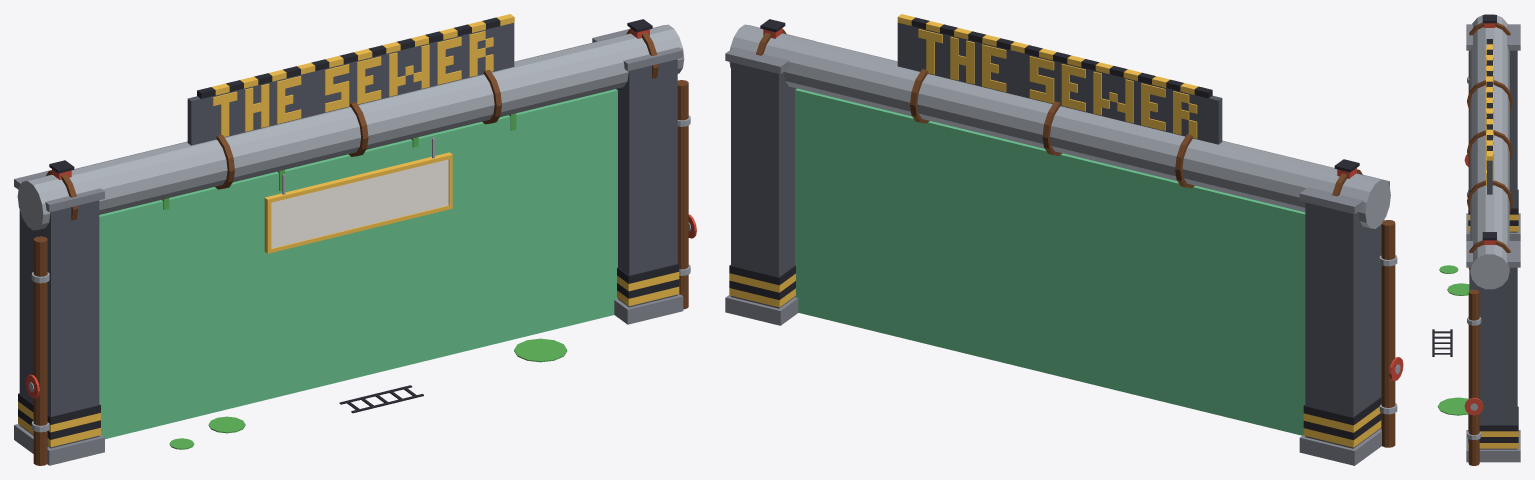
The model's file is CatCafe_Sewer_Gate.glb.
The picture shows the model from 3 angles, left to right: view 1: azimuth 30°, elevation 25°; view 2: azimuth 150°, elevation 25°; view 3: azimuth 270°, elevation 25°; orthographic projection. The views are drawn at different scales.
Parts seen in each view (by area): view 1: CatCafe_Sewer_Gate_Bars, CatCafe_Sewer_Gate, CatCafe_Sewer_Gate_SignBoard; view 2: CatCafe_Sewer_Gate_Bars, CatCafe_Sewer_Gate; view 3: CatCafe_Sewer_Gate, CatCafe_Sewer_Gate_Lamp_Bulb.
Part boxes in pixels (box(x1,y1,x2,y2)): CatCafe_Sewer_Gate_Bars: box(99, 89, 617, 438); CatCafe_Sewer_Gate: box(14, 14, 696, 465); CatCafe_Sewer_Gate_SignBoard: box(271, 159, 448, 248); CatCafe_Sewer_Gate_Bars: box(795, 88, 1305, 435); CatCafe_Sewer_Gate: box(725, 14, 1403, 465); CatCafe_Sewer_Gate: box(1432, 14, 1520, 465); CatCafe_Sewer_Gate_Lamp_Bulb: box(1484, 23, 1495, 245).
Bounding box in the file's own units: 37.1 × 17.3 × 5.6.
Materials: 1 (1 with a texture image).
